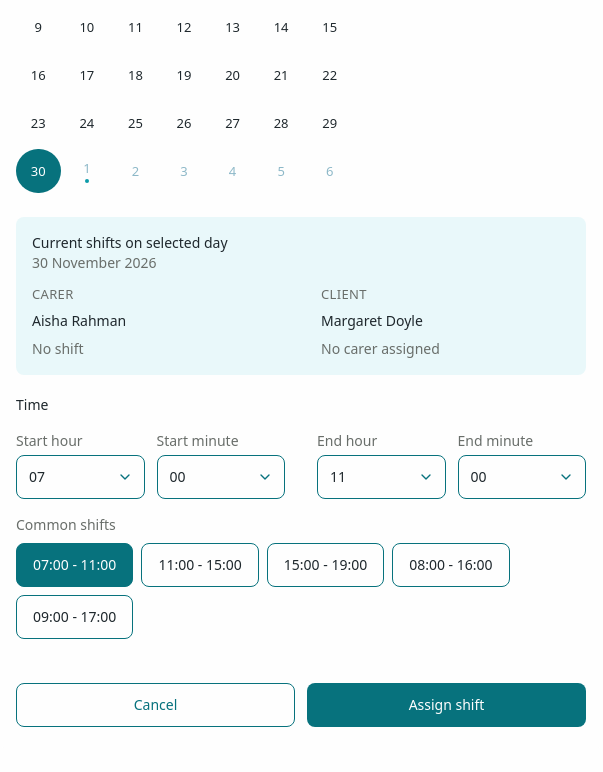
Scenario: [ADM-07][AC-03] custom time validation › [ADM-07][AC-03] a time error returned by the server is shown on the time
The width and height of the screenshot is (603, 772).
(page scrolled)
Click the button "Assign shift".
click(446, 705)  # box [307, 683, 586, 727]
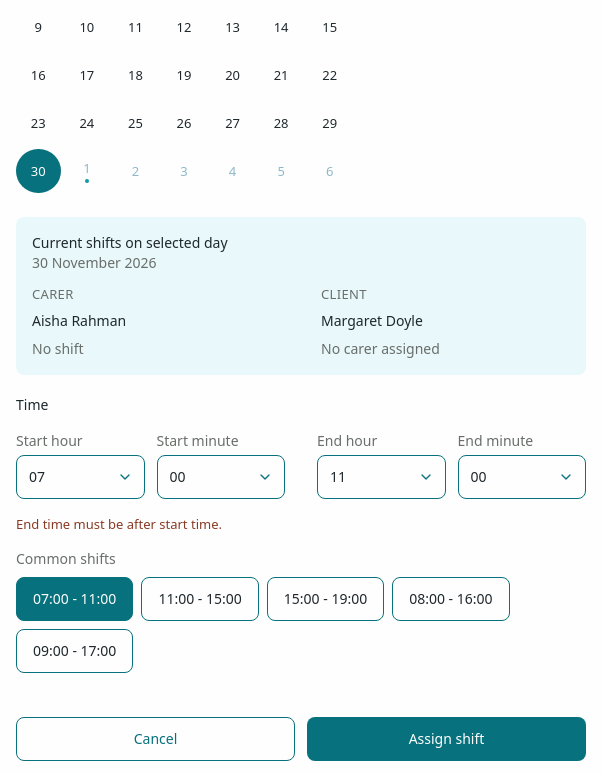
Now the text "End time must be after start time." is shown, box [16, 515, 222, 533]
